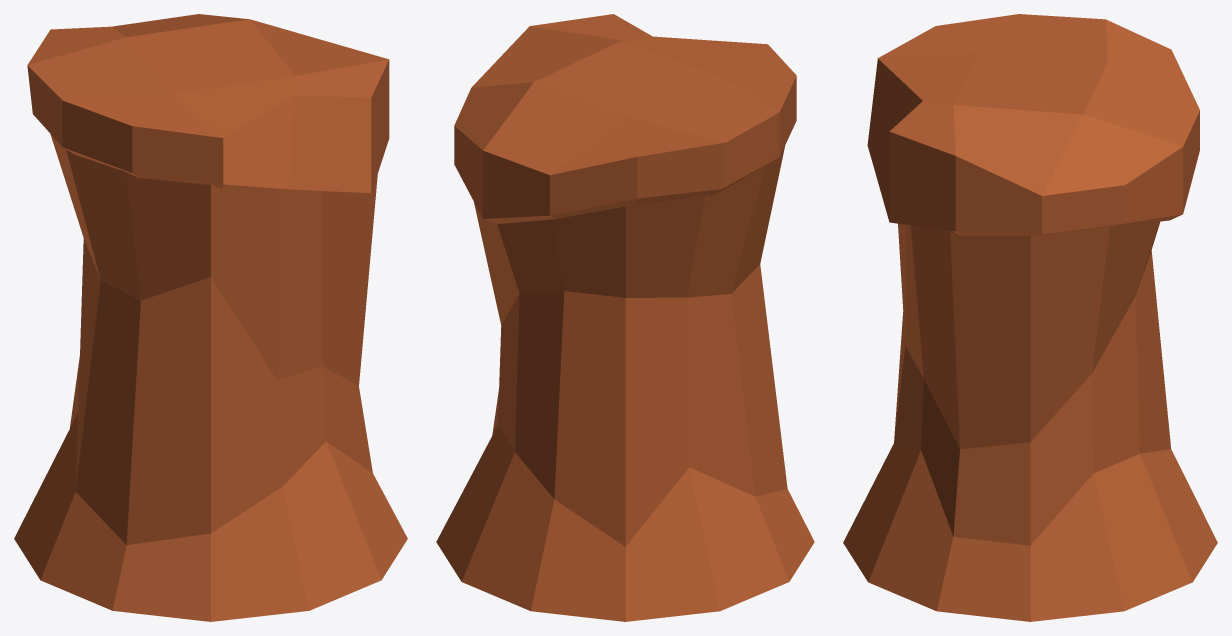
File: Rock1.fbx
3 views of the same model, side by side, from view 1: azimuth 30°, elevation 25°; view 2: azimuth 150°, elevation 25°; view 3: azimuth 270°, elevation 25° (orthographic). The views are drawn at different scales.
Parts seen in each view (by area): view 1: Rock1; view 2: Rock1; view 3: Rock1.
Part boxes in pixels (left/top/right/bottom): Rock1: left=14, top=14, right=407, bottom=621; Rock1: left=436, top=14, right=814, bottom=621; Rock1: left=843, top=14, right=1217, bottom=621.
Bounding box in the file's own units: 5.6 × 7.58 × 5.6.
